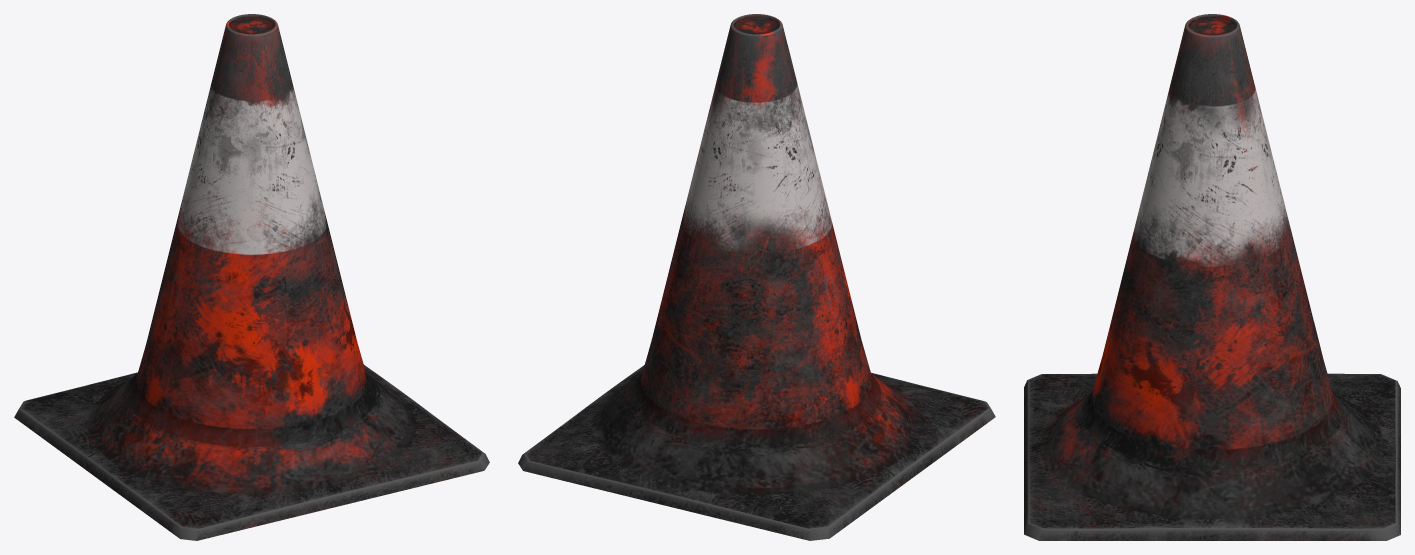
File: old_emergency_cone.glb
3 views of the same model, side by side, from view 1: azimuth 30°, elevation 25°; view 2: azimuth 150°, elevation 25°; view 3: azimuth 270°, elevation 25° (orthographic). The views are drawn at different scales.
Visible parts, largest first — view 1: Plane.003; view 2: Plane.003; view 3: Plane.003.
Boxes of the visible parts, x1,y1,x2,y2 form: Plane.003: (14, 14, 489, 540); Plane.003: (518, 14, 995, 540); Plane.003: (1024, 14, 1400, 540).
Size of the model in its own units: 2 by 2.56 by 2.
1 material, 1 textured.
